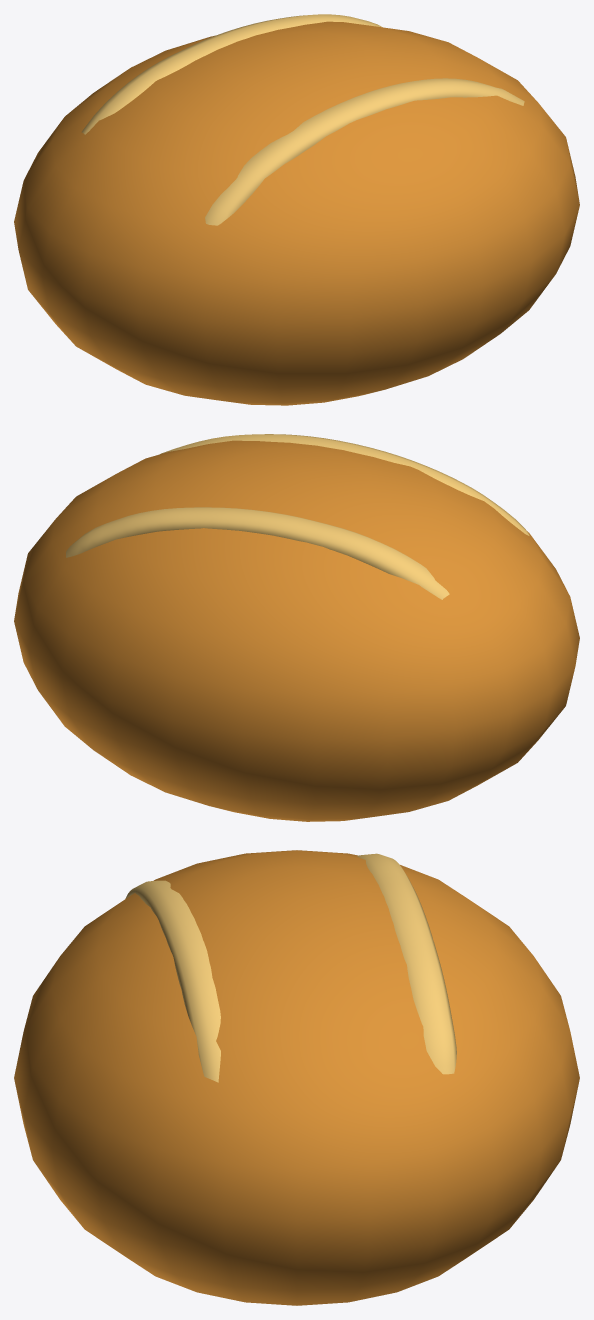
Rendered from Item_BreadBase.fbx.
3 views of the same model, one above another, from view 1: azimuth 30°, elevation 25°; view 2: azimuth 150°, elevation 25°; view 3: azimuth 270°, elevation 25° (orthographic). The views are drawn at different scales.
Visible parts, largest first — view 1: Day_BreadBase.001; view 2: Day_BreadBase.001; view 3: Day_BreadBase.001.
Part boxes in pixels (x1,y1,x2,y2): Day_BreadBase.001: [14, 14, 579, 405]; Day_BreadBase.001: [14, 434, 579, 821]; Day_BreadBase.001: [14, 850, 579, 1305].
Bounding box in the file's own units: 54.87 × 32.58 × 46.3.
